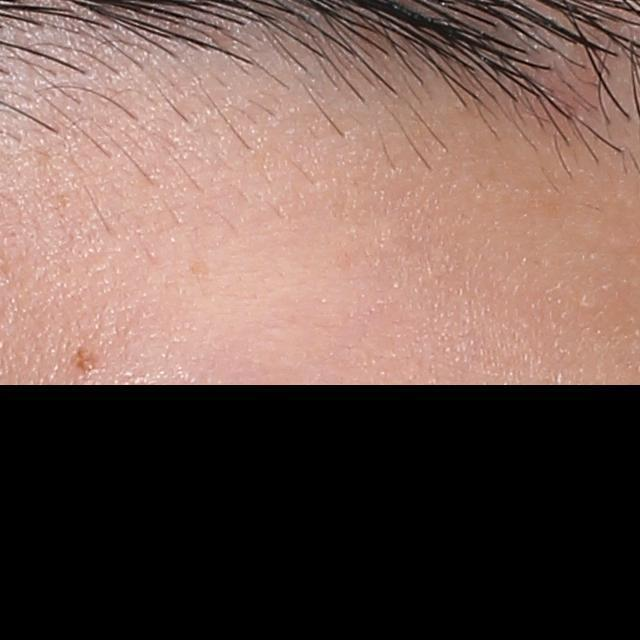nevus: (69, 347, 102, 377)
